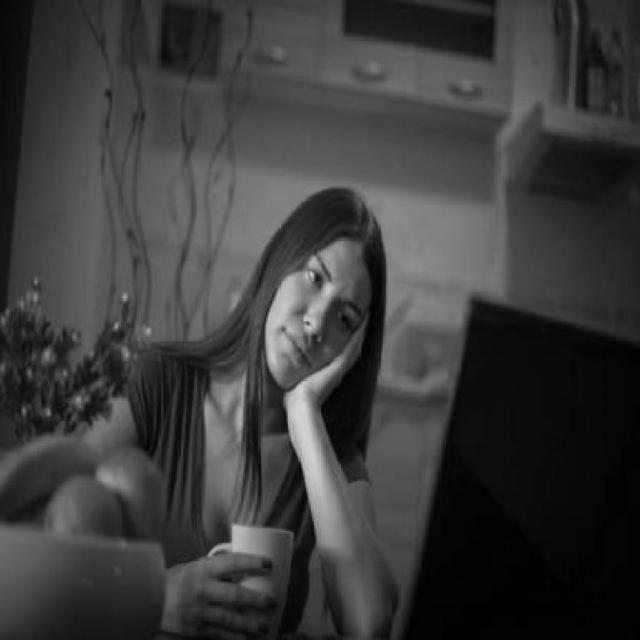angry: (273, 245, 359, 364)
